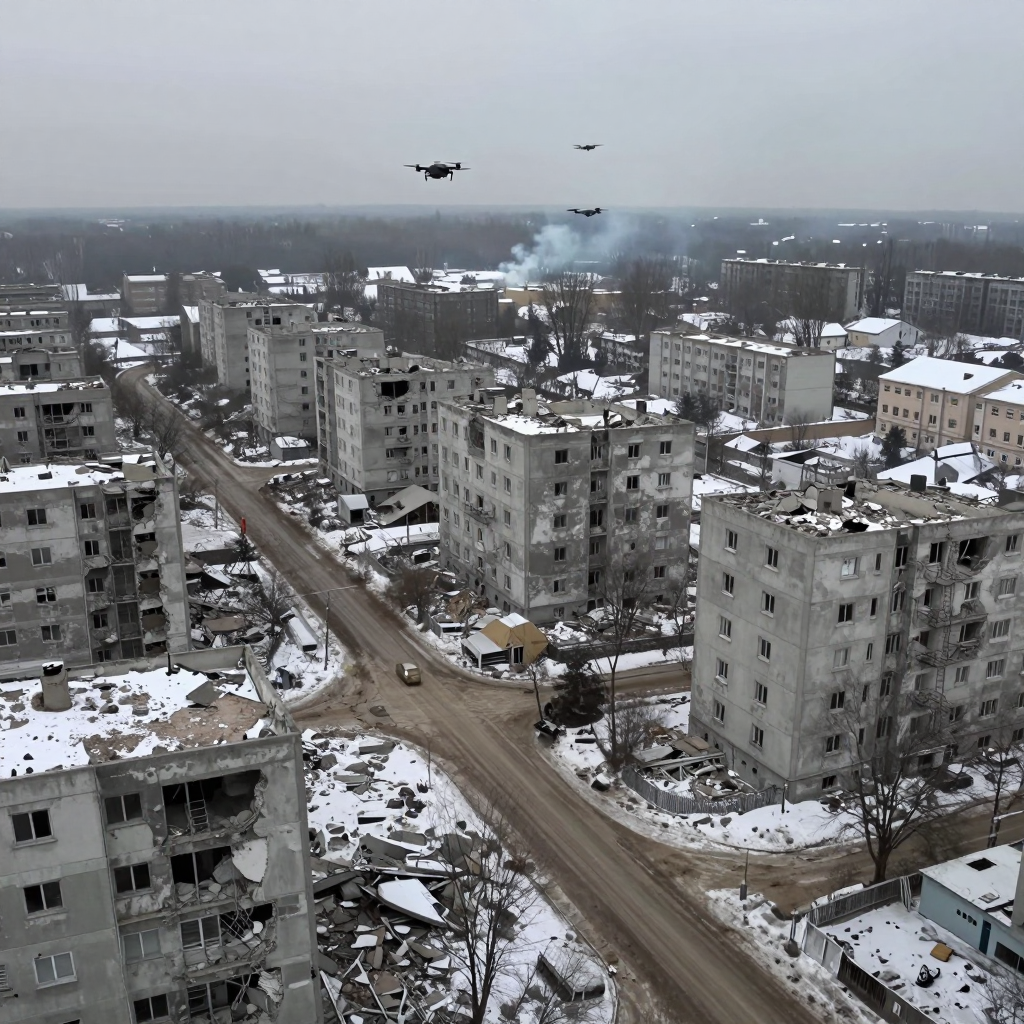drone: (404, 161, 471, 182), (567, 208, 609, 217), (572, 144, 604, 151)
